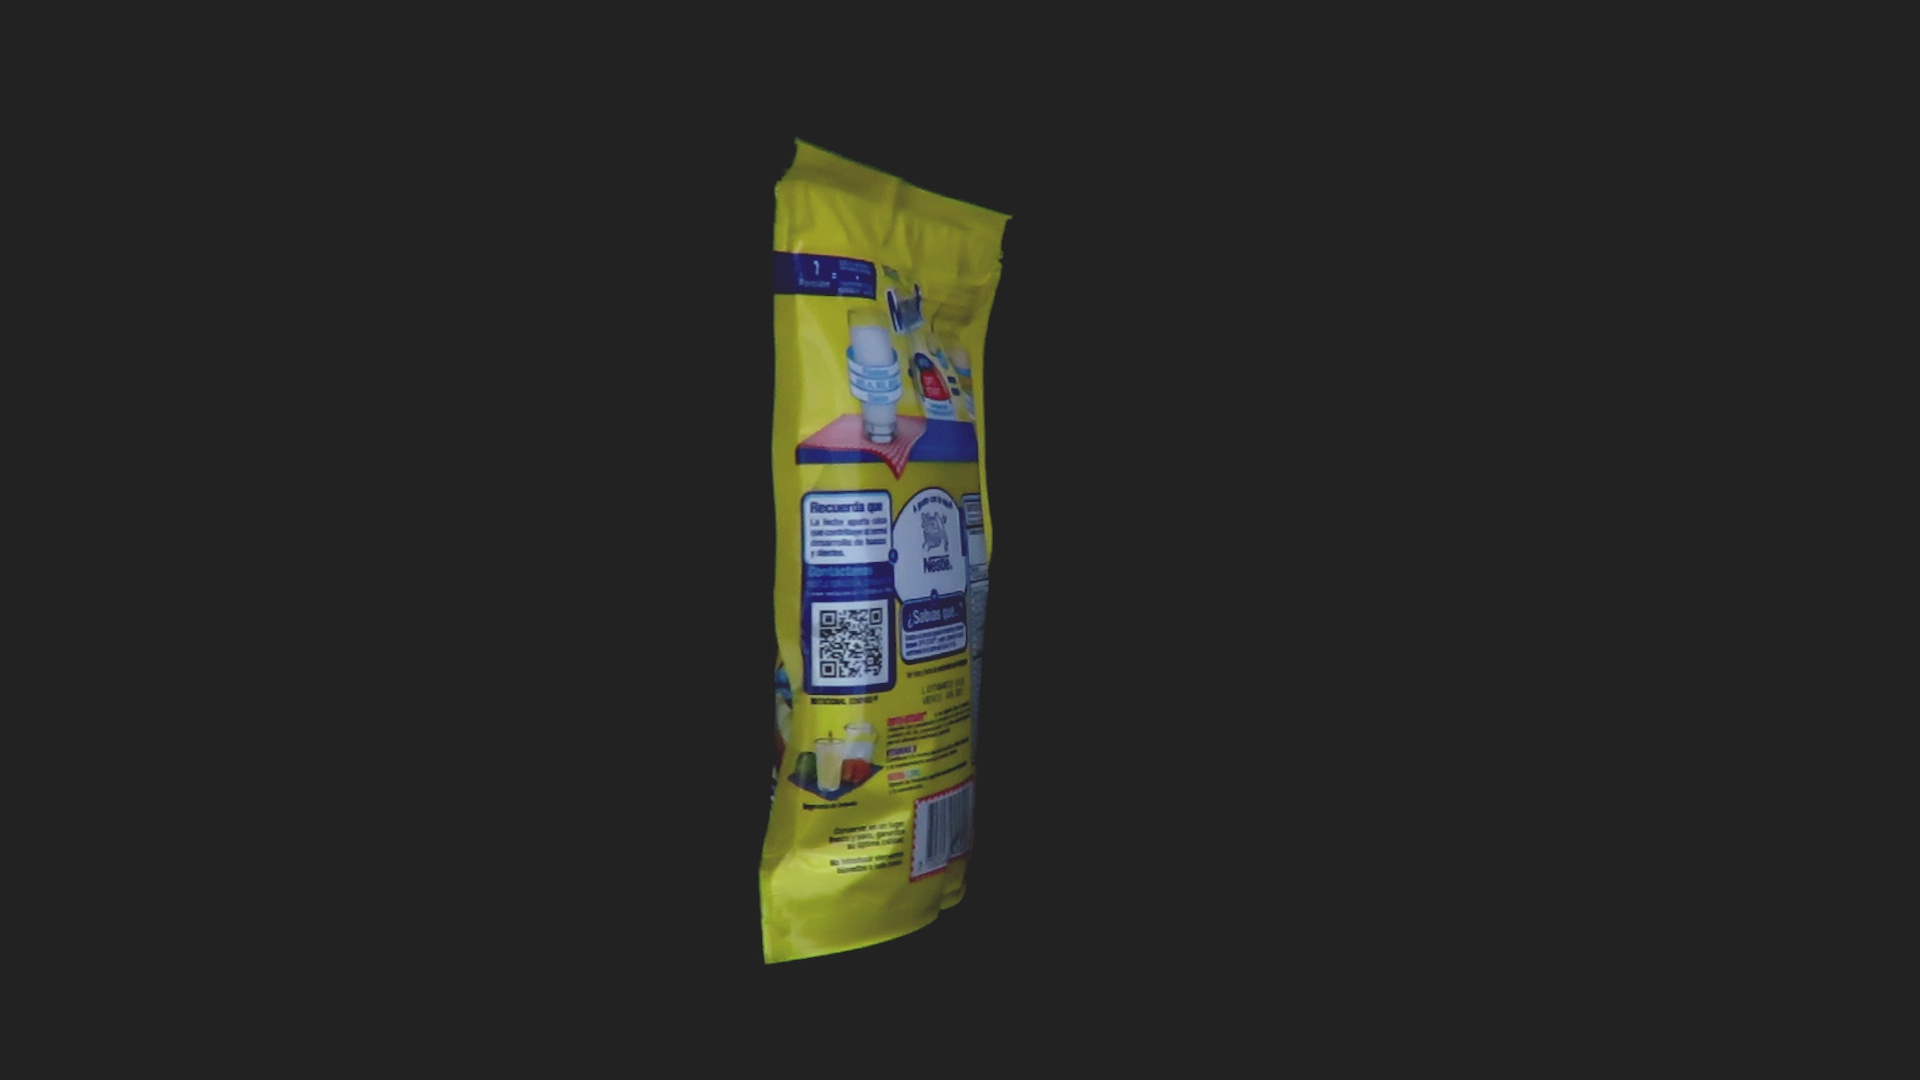COL0170306DYP20000: (766, 132, 1019, 727)
